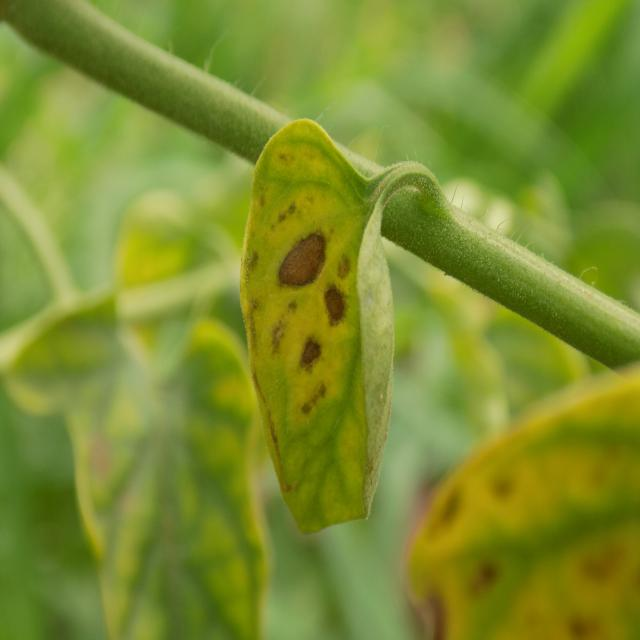tomato_early blight: (237, 114, 405, 537), (412, 353, 640, 640)
